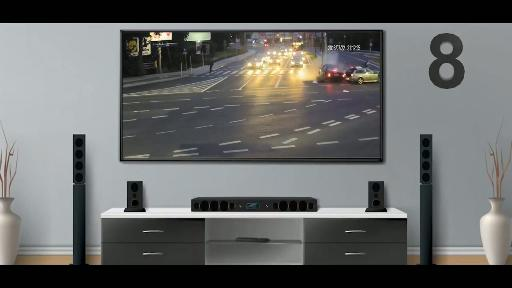Accident: (322, 60, 382, 90)
CAR: (247, 57, 263, 71), (292, 56, 305, 70), (270, 54, 283, 66)
